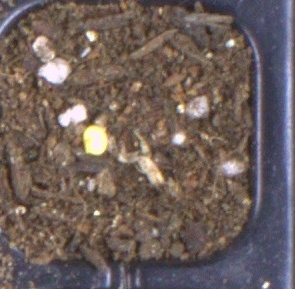chilli seed: (82, 125, 108, 155)
